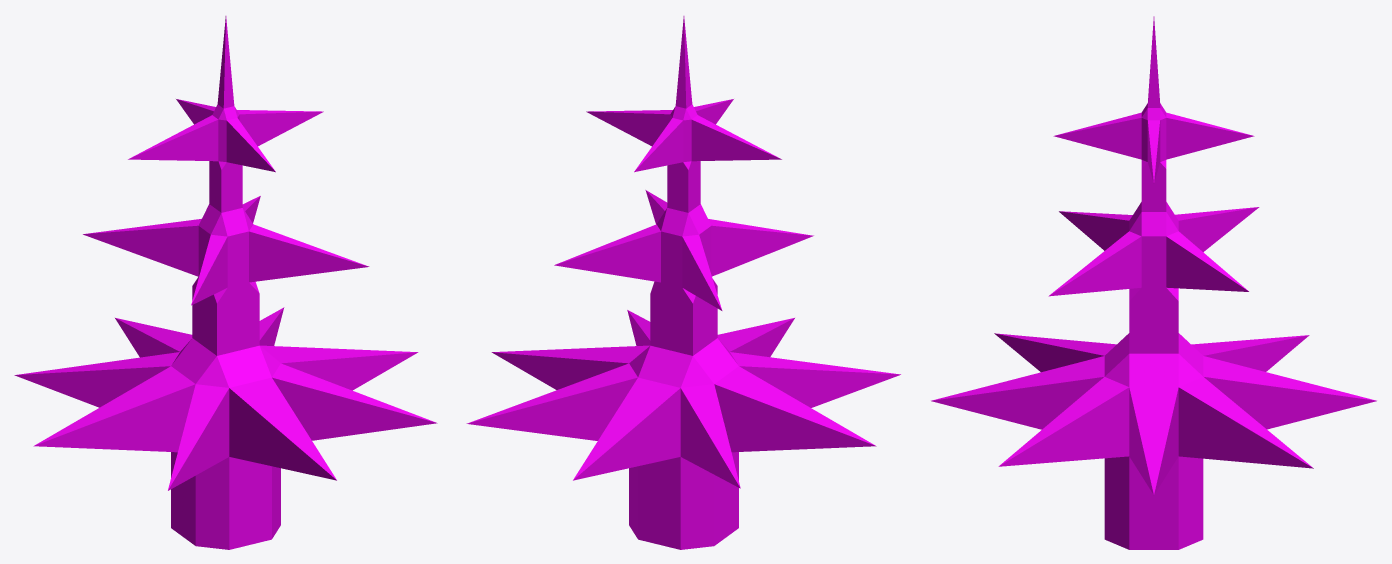
Rendered from crystal tree.fbx.
3 views of the same model, side by side, from view 1: azimuth 30°, elevation 25°; view 2: azimuth 150°, elevation 25°; view 3: azimuth 270°, elevation 25° (orthographic).
Visible parts, largest first — view 1: crystal_tree; view 2: crystal_tree; view 3: crystal_tree.
Boxes of the visible parts, <box> form: crystal_tree: <box>14,16,437,549</box>; crystal_tree: <box>466,16,900,549</box>; crystal_tree: <box>931,16,1376,549</box>.
Size of the model in its own units: 12.9 by 16.4 by 12.91.
